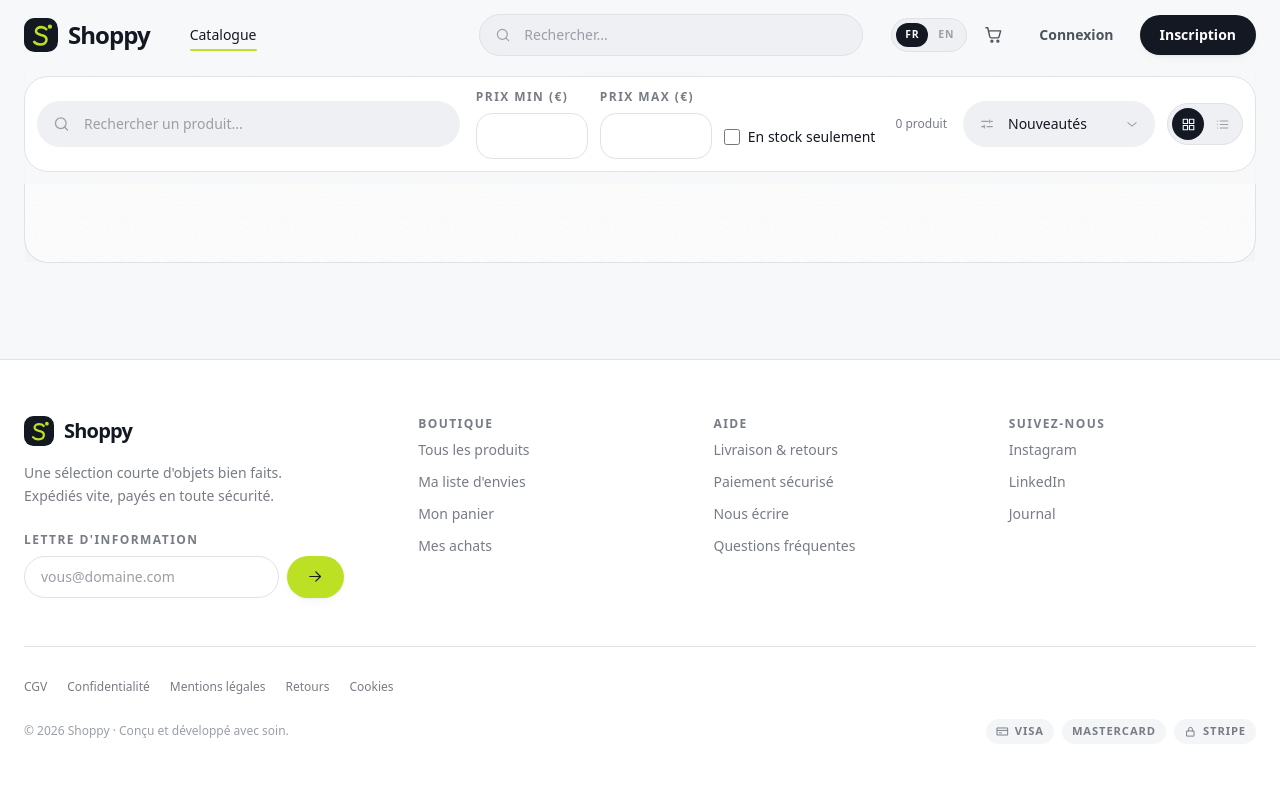
Test: NewsletterForm › subscribes an email from the footer
This screenshot has width=1280, height=800.
(page scrolled)
Type "ada@shoppy.test" into the field labelled "Lettre d'information".
click(152, 577); type("ada@shoppy.test")  # box [24,556,279,598]
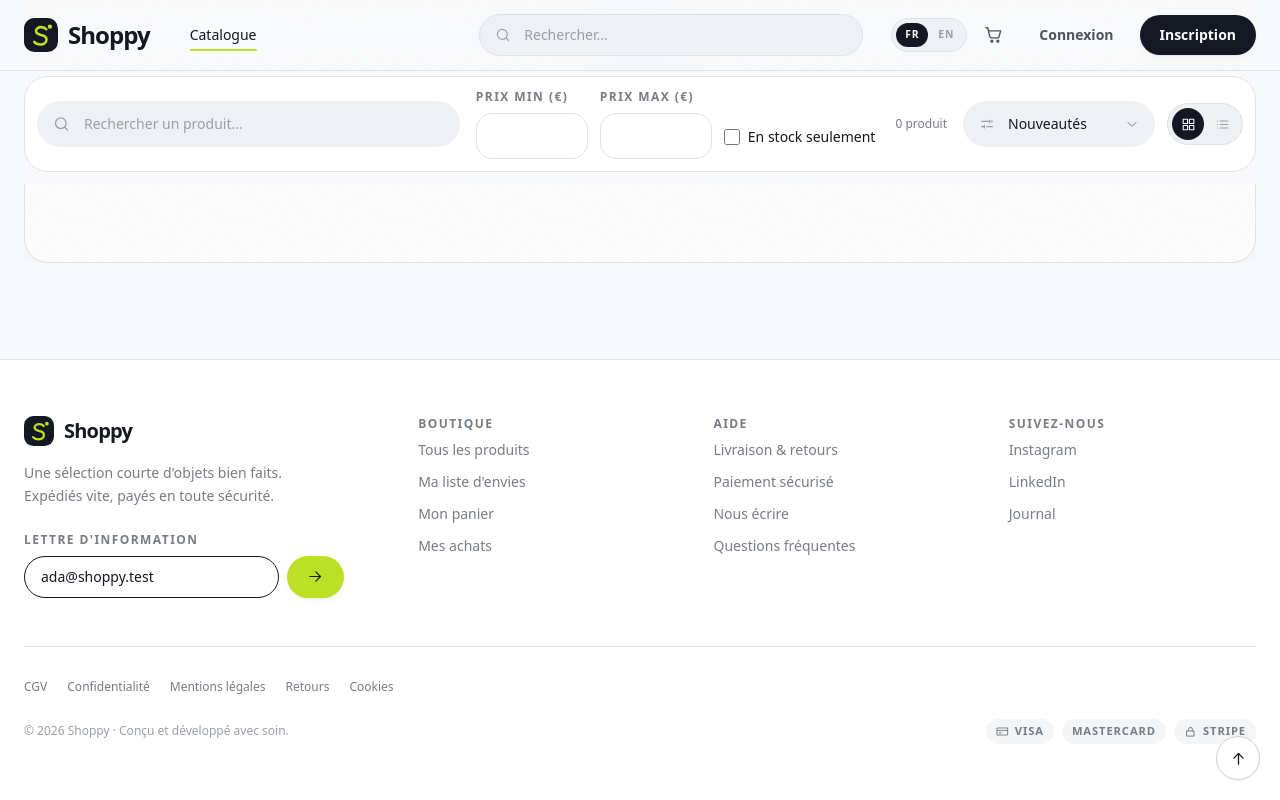
Click the button named "S'abonner".
click(316, 577)  # box [287,556,344,598]
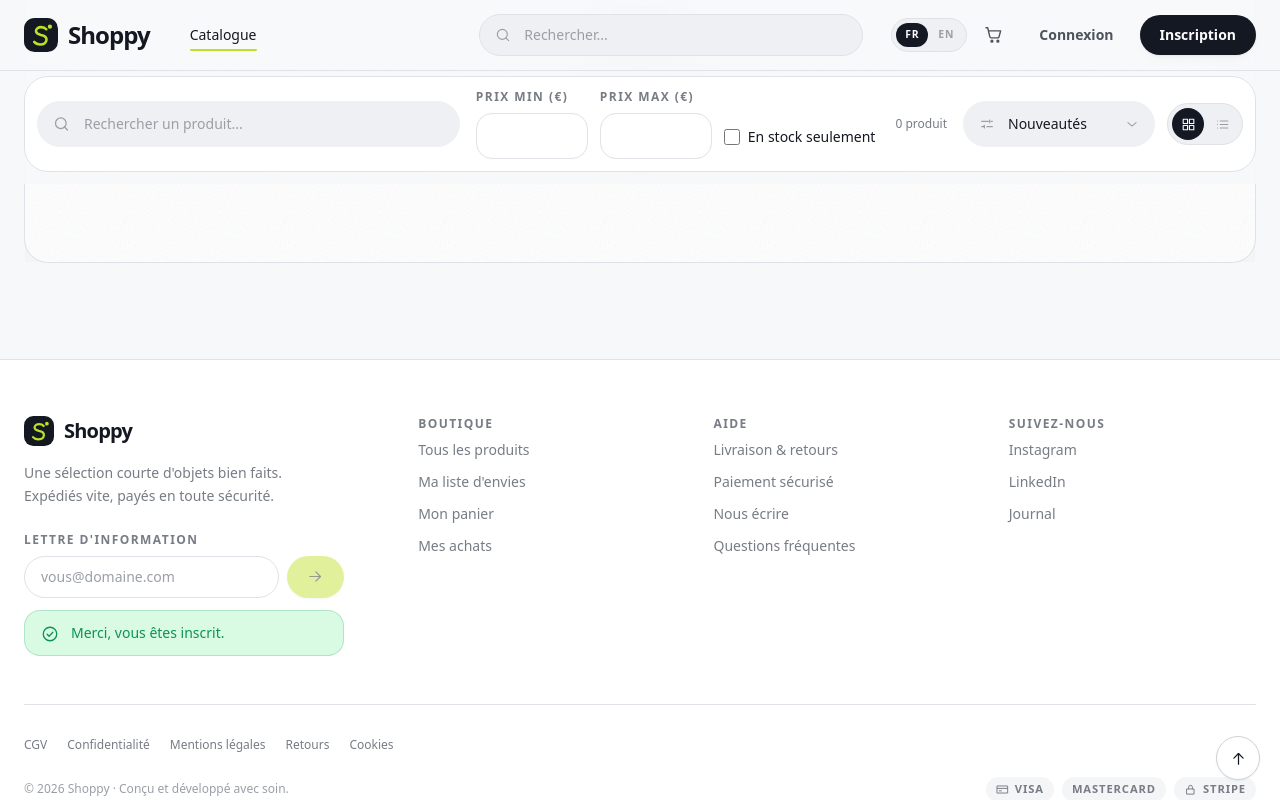
Check: the message shows "inscrit", box [71,623,224,642]
